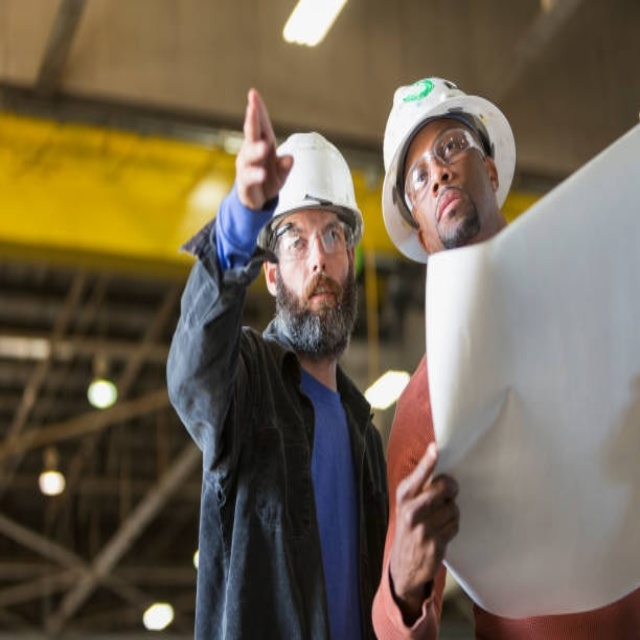Gafas: (404, 124, 489, 207), (272, 219, 354, 261)
Sin_guantes: (386, 435, 462, 605), (236, 85, 293, 213)
Sin_mascara: (297, 267, 343, 333), (433, 177, 473, 235)
